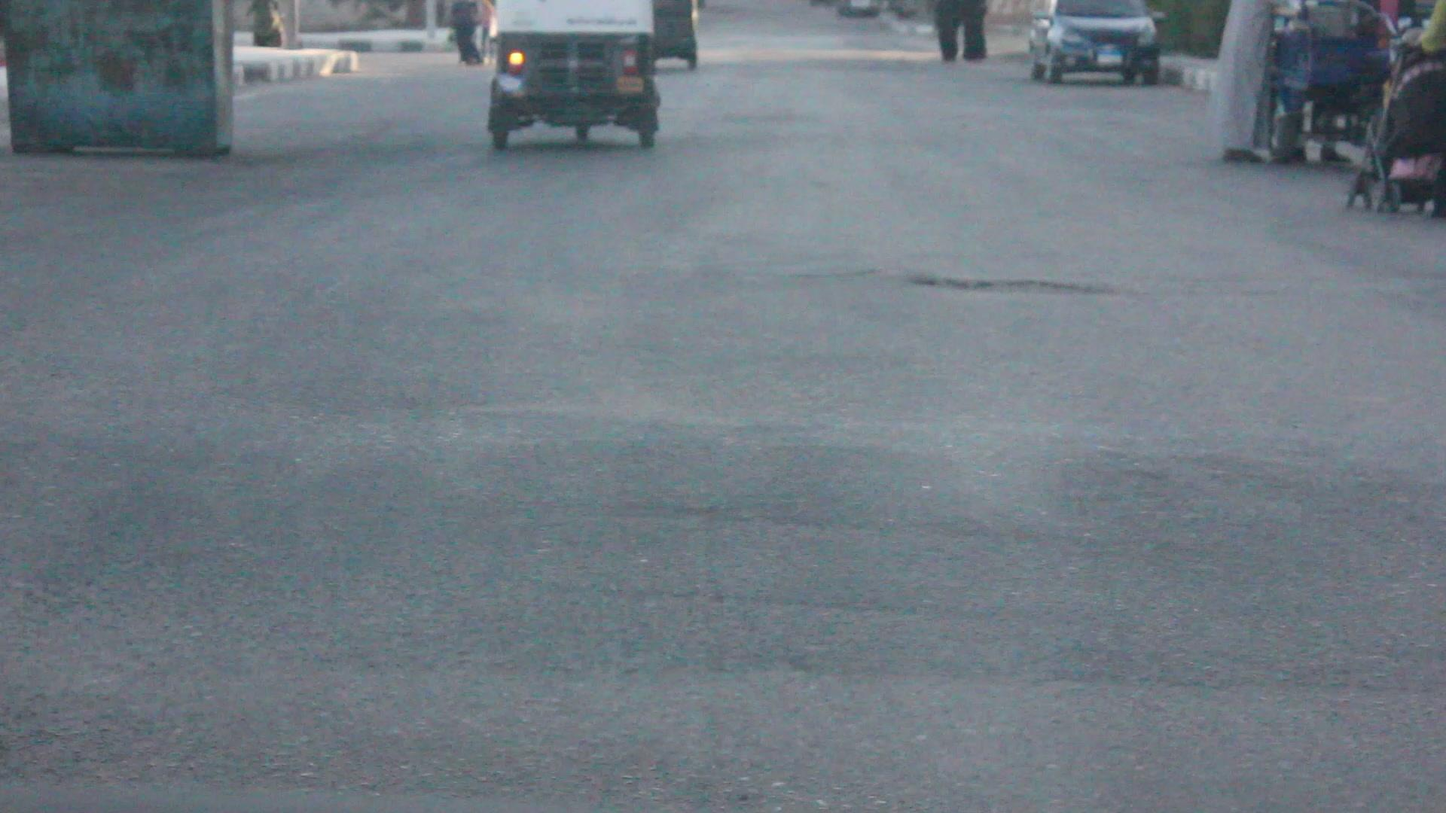Bump: (0, 395, 1446, 702)
